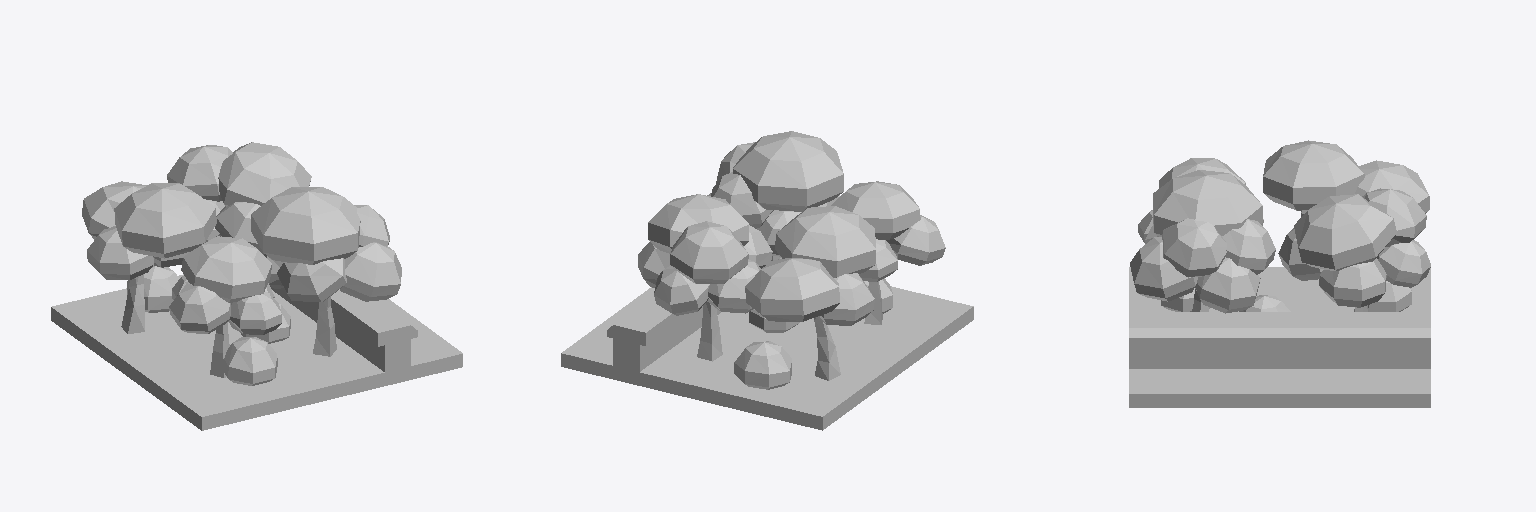
The model's file is park_wall_straight_decorated.obj.
The picture shows the model from 3 angles: view 1: azimuth 30°, elevation 25°; view 2: azimuth 150°, elevation 25°; view 3: azimuth 270°, elevation 25°; orthographic projection.
Visible parts, largest first — view 1: park_wall_straight_decorated_Cube.14198; view 2: park_wall_straight_decorated_Cube.14198; view 3: park_wall_straight_decorated_Cube.14198.
Part boxes in pixels (x1,y1,x2,y2): park_wall_straight_decorated_Cube.14198: (51,142,462,430); park_wall_straight_decorated_Cube.14198: (561,131,973,430); park_wall_straight_decorated_Cube.14198: (1129,140,1430,407).
Bounding box in the file's own units: 2.01 × 1.28 × 2.01.